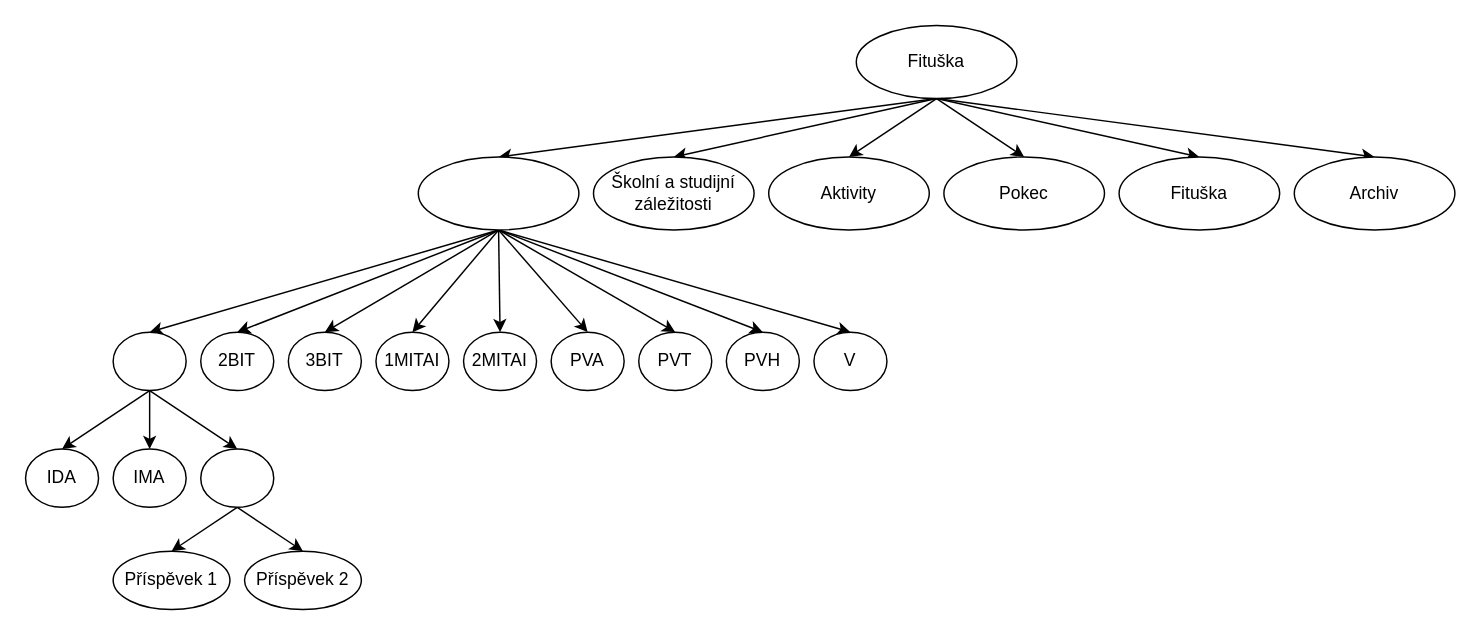
This 1480x635 diagram has some shape labels left out. The centre of each missing label's shape, as x and y in pixels:
"1BIT" goes at point (149, 361).
"IZP" goes at point (236, 477).
"Předměty (2020/2021" goes at point (498, 192).
